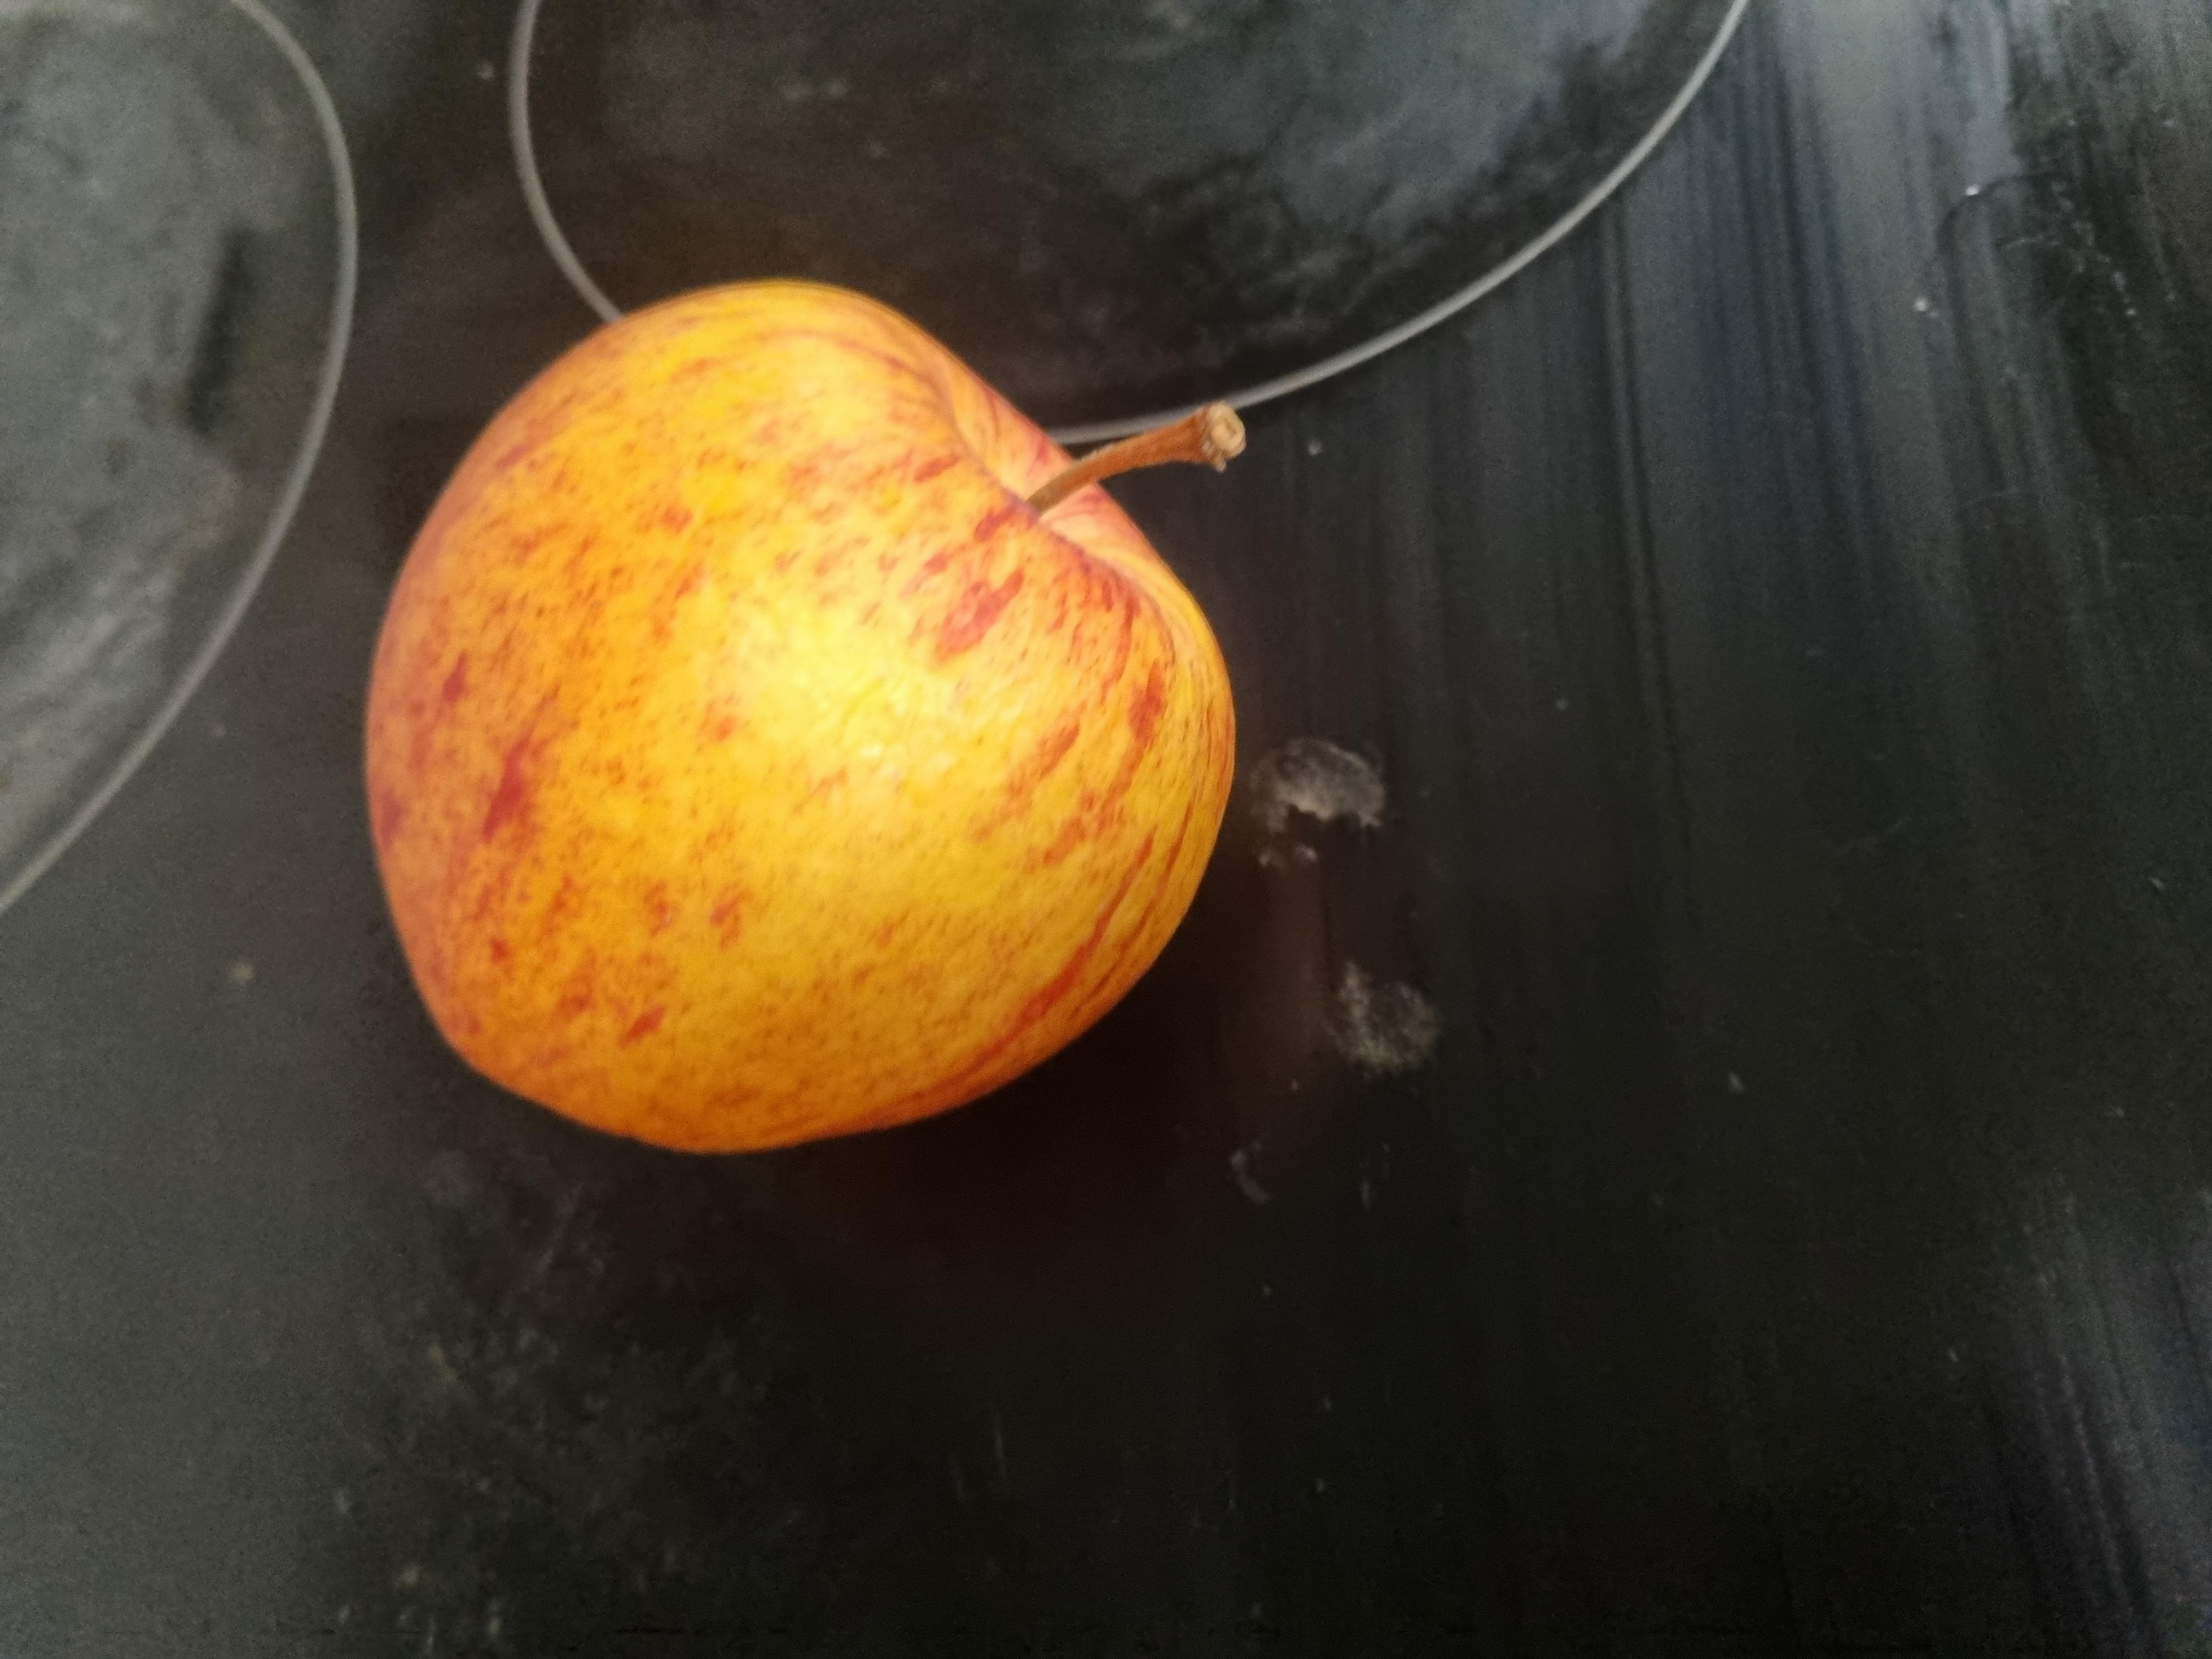Apple: (674, 235, 1855, 985)
